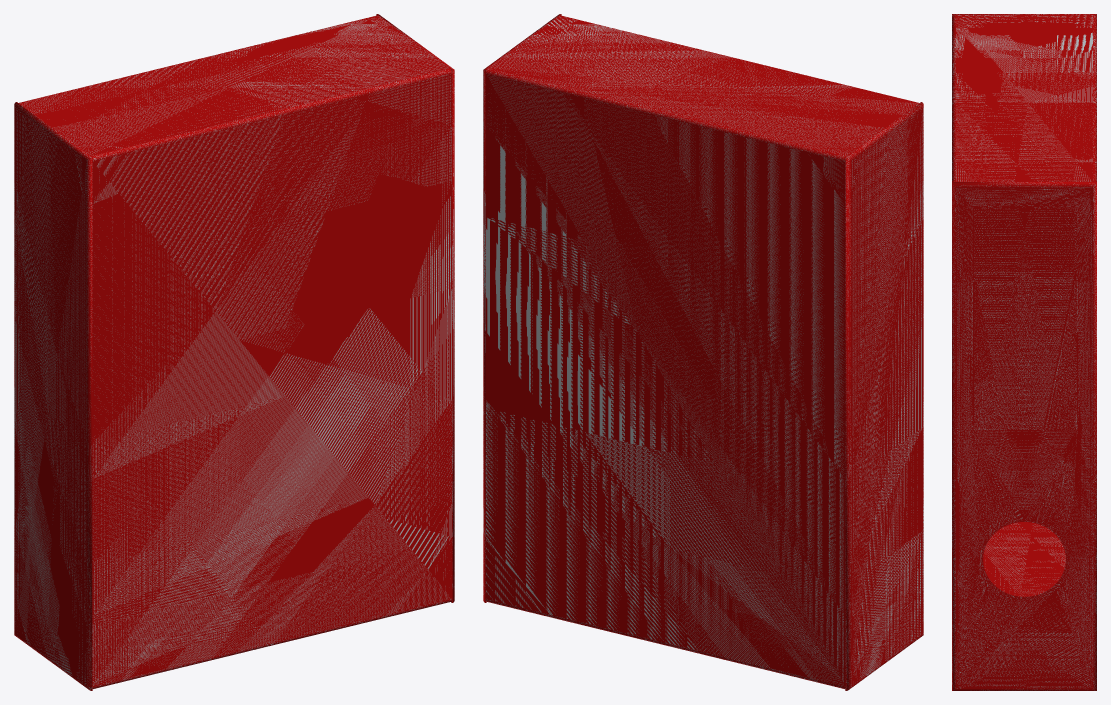
The model's file is body.dae.
3 renders of one model, left to right at view 1: azimuth 30°, elevation 25°; view 2: azimuth 150°, elevation 25°; view 3: azimuth 270°, elevation 25°, orthographic. The views are drawn at different scales.
Parts seen in each view (by area): view 1: instance_0; view 2: instance_0; view 3: instance_0.
Boxes of the visible parts, <box> form: instance_0: <box>14,14,454,690</box>; instance_0: <box>483,14,923,690</box>; instance_0: <box>952,14,1096,690</box>.
Size of the model in its own units: 0.225 by 0.0805 by 0.312.
